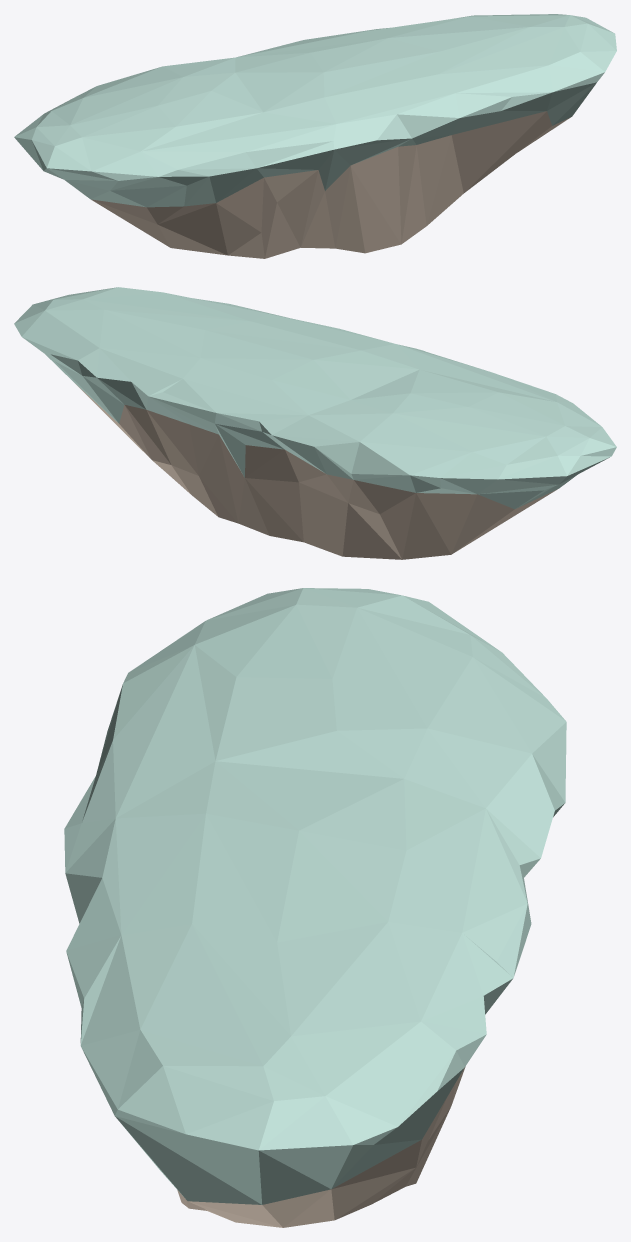
The model's file is brawler_platform.fbx.
The picture shows the model from 3 angles, top to bottom: view 1: azimuth 30°, elevation 25°; view 2: azimuth 150°, elevation 25°; view 3: azimuth 270°, elevation 25°; orthographic projection. The views are drawn at different scales.
Visible parts, largest first — view 1: polySurface1; view 2: polySurface1; view 3: polySurface1.
Part boxes in pixels (bbox=[...]): polySurface1: bbox=[14, 14, 616, 258]; polySurface1: bbox=[14, 287, 616, 559]; polySurface1: bbox=[64, 588, 566, 1227].
Bounding box in the file's own units: 14.73 × 4.18 × 5.66.
